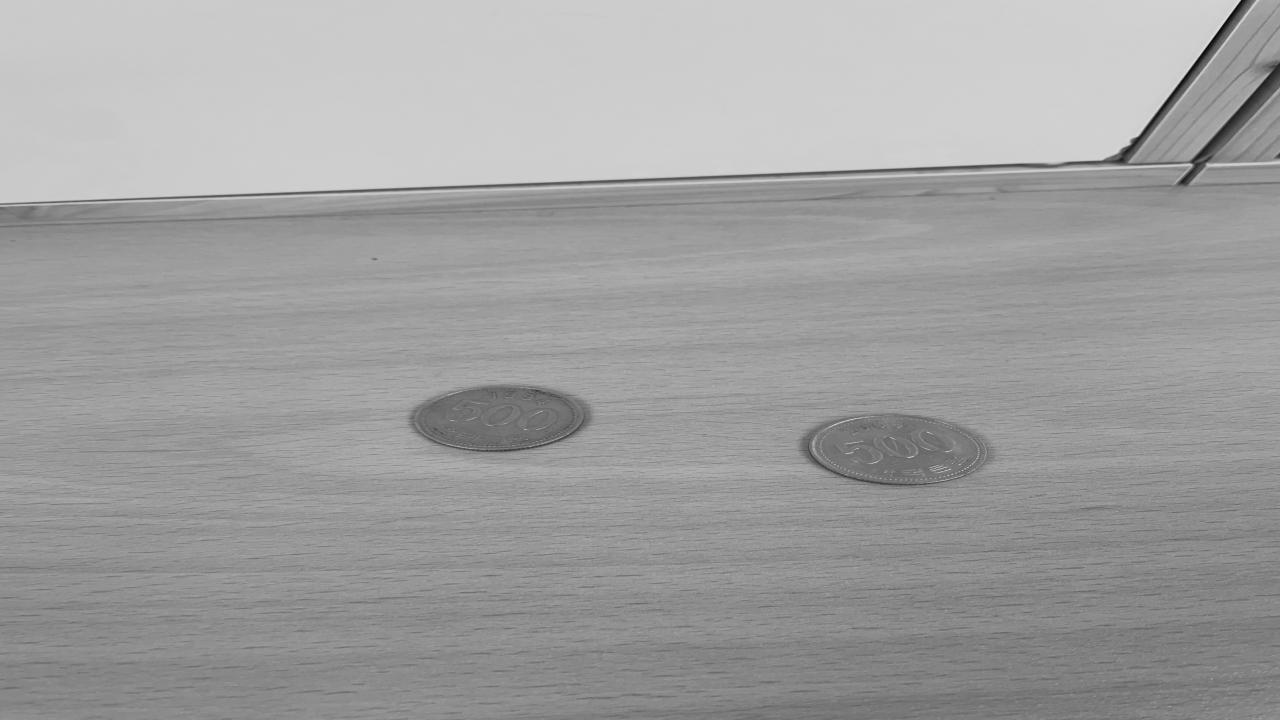coin: (802, 412, 992, 487), (412, 386, 586, 452)
